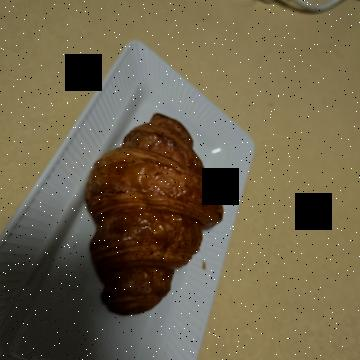croissant: (109, 128, 339, 287)
